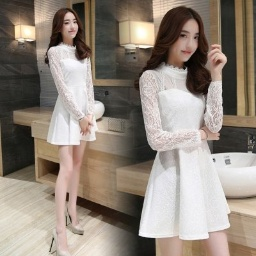face: (153, 6, 212, 77), (45, 5, 92, 59)
